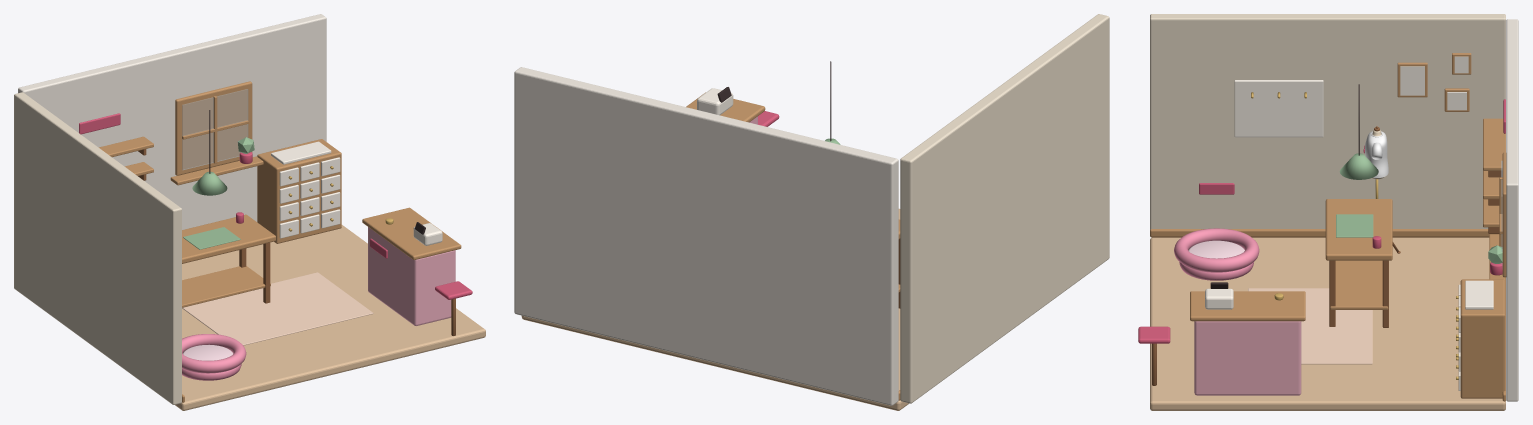
Rendered from atelier.glb.
3 renders of one model, left to right at view 1: azimuth 30°, elevation 25°; view 2: azimuth 150°, elevation 25°; view 3: azimuth 270°, elevation 25°, orthographic. The views are drawn at different scales.
Parts seen in each view (by area): view 1: wall_left, wall_back, floor, rug, desk, window_frame, window_glass, cabinet, desk_top, workbench_shelf, workbench_top, petbed_rim (+11 smaller); view 2: wall_back, wall_left, floor, desk_top, register; view 3: wall_left, floor, desk, pegboard, wall_back, cabinet, rug, workbench_top, desk_top, workbench_shelf, petbed_rim, baseboard_left (+18 smaller).
Part boxes in pixels (x1,y1,x2,y2): wall_left: (14,92,181,404); wall_back: (18,14,326,229); floor: (175,225,485,410); rug: (182,272,373,345); desk: (368,227,455,325); window_frame: (175,81,252,175); window_glass: (182,89,248,169); cabinet: (257,139,341,243); desk_top: (362,207,461,259); workbench_shelf: (182,266,270,307); workbench_top: (182,214,275,263); petbed_rim: (182,334,246,373); wall_back: (514,67,898,405); wall_left: (900,14,1109,403); floor: (521,208,909,410); desk_top: (686,92,765,122); register: (697,88,733,115); wall_left: (1150,14,1505,229); floor: (1150,237,1505,410); desk: (1194,321,1301,395); pegboard: (1234,80,1323,137); wall_back: (1506,19,1518,401); cabinet: (1460,279,1505,398); rug: (1248,288,1372,364); workbench_top: (1325,199,1392,260); desk_top: (1190,291,1305,321); workbench_shelf: (1330,260,1388,309); petbed_rim: (1174,228,1259,272); baseboard_left: (1150,229,1498,237).
Bounding box in the file's own units: 4.54 × 2.82 × 4.27.
